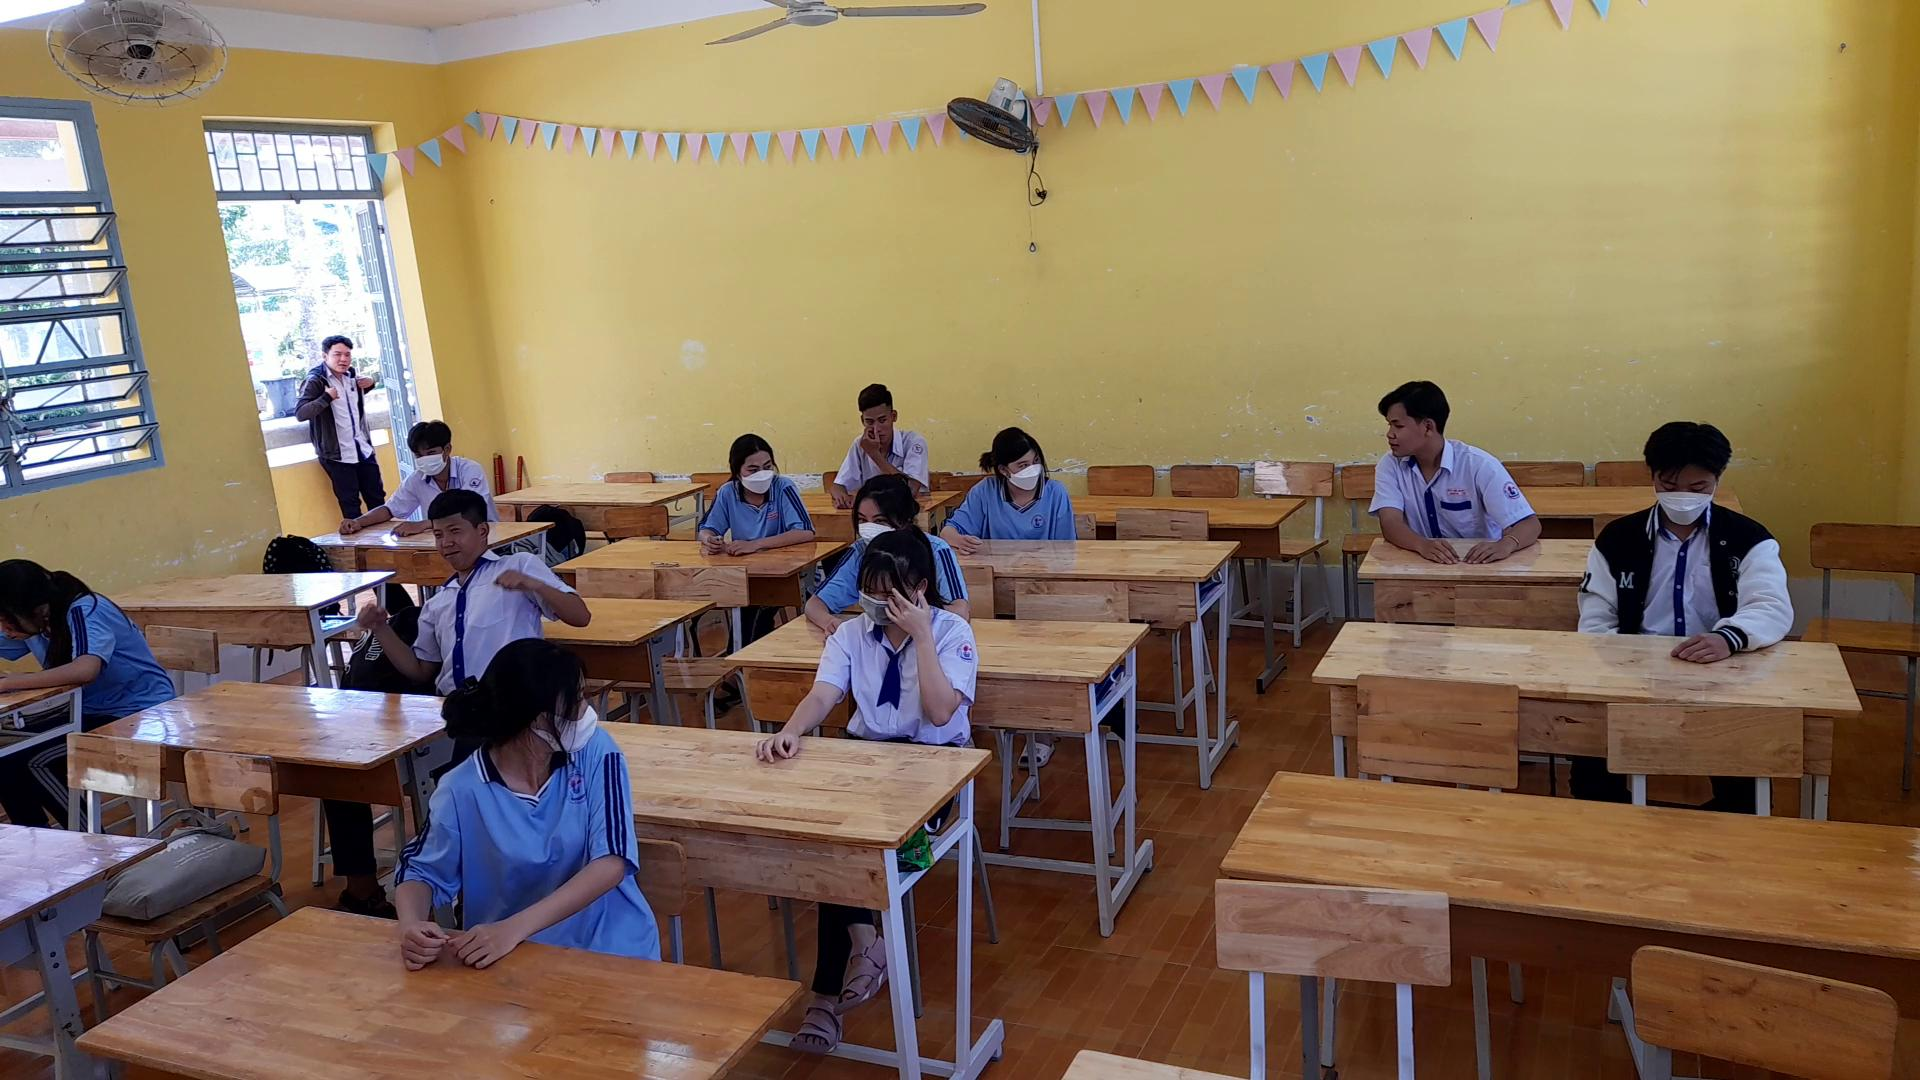Bend Over The Desk: (1629, 407, 1737, 535)
Hand Under Table: (1571, 514, 1638, 645), (1043, 479, 1083, 550)
Look Around: (434, 636, 605, 777), (976, 405, 1068, 502), (713, 425, 795, 502)
Normal: (372, 409, 485, 493)
Wave: (872, 587, 978, 732), (492, 538, 597, 626), (495, 541, 599, 629)
